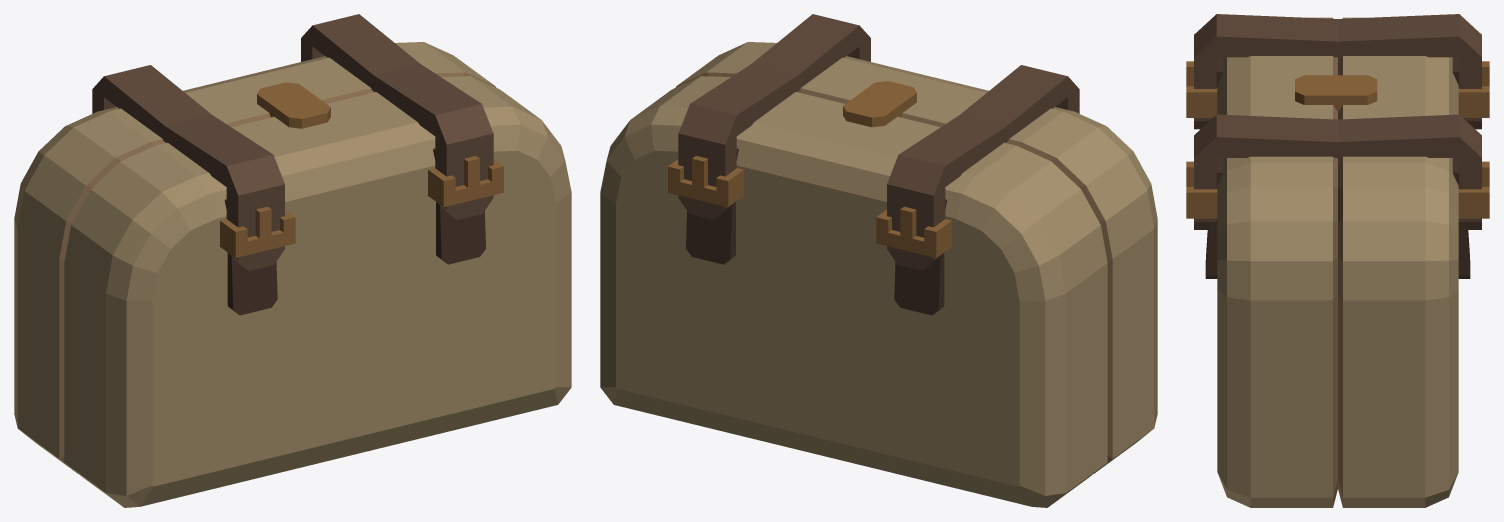
Rendered from 3D_Close_Suitcase01.fbx.
The picture shows the model from 3 angles, left to right: view 1: azimuth 30°, elevation 25°; view 2: azimuth 150°, elevation 25°; view 3: azimuth 270°, elevation 25°; orthographic projection.
Visible parts, largest first — view 1: 3D_Close_Suitcase01; view 2: 3D_Close_Suitcase01; view 3: 3D_Close_Suitcase01.
Boxes of the visible parts, x1,y1,x2,y2 form: 3D_Close_Suitcase01: [14, 14, 571, 507]; 3D_Close_Suitcase01: [600, 14, 1157, 507]; 3D_Close_Suitcase01: [1186, 14, 1489, 507].
Size of the model in its own units: 84.82 by 58.5 by 48.8.
